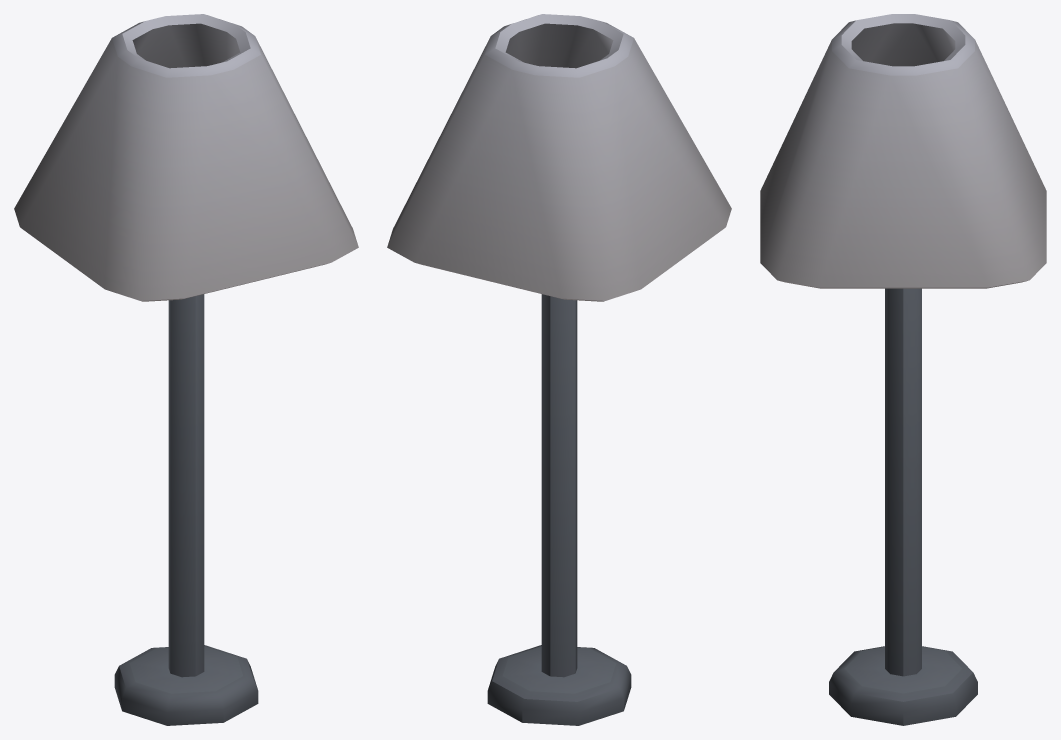
Rendered from lamp_standing.glb.
3 renders of one model, left to right at view 1: azimuth 30°, elevation 25°; view 2: azimuth 150°, elevation 25°; view 3: azimuth 270°, elevation 25°, orthographic.
Parts seen in each view (by area): view 1: lamp_standing; view 2: lamp_standing; view 3: lamp_standing.
Boxes of the visible parts, x1,y1,x2,y2 form: lamp_standing: (14, 14, 358, 725); lamp_standing: (387, 14, 731, 725); lamp_standing: (760, 14, 1046, 725).
Size of the model in its own units: 1 by 2.52 by 1.
1 material, 1 textured.
